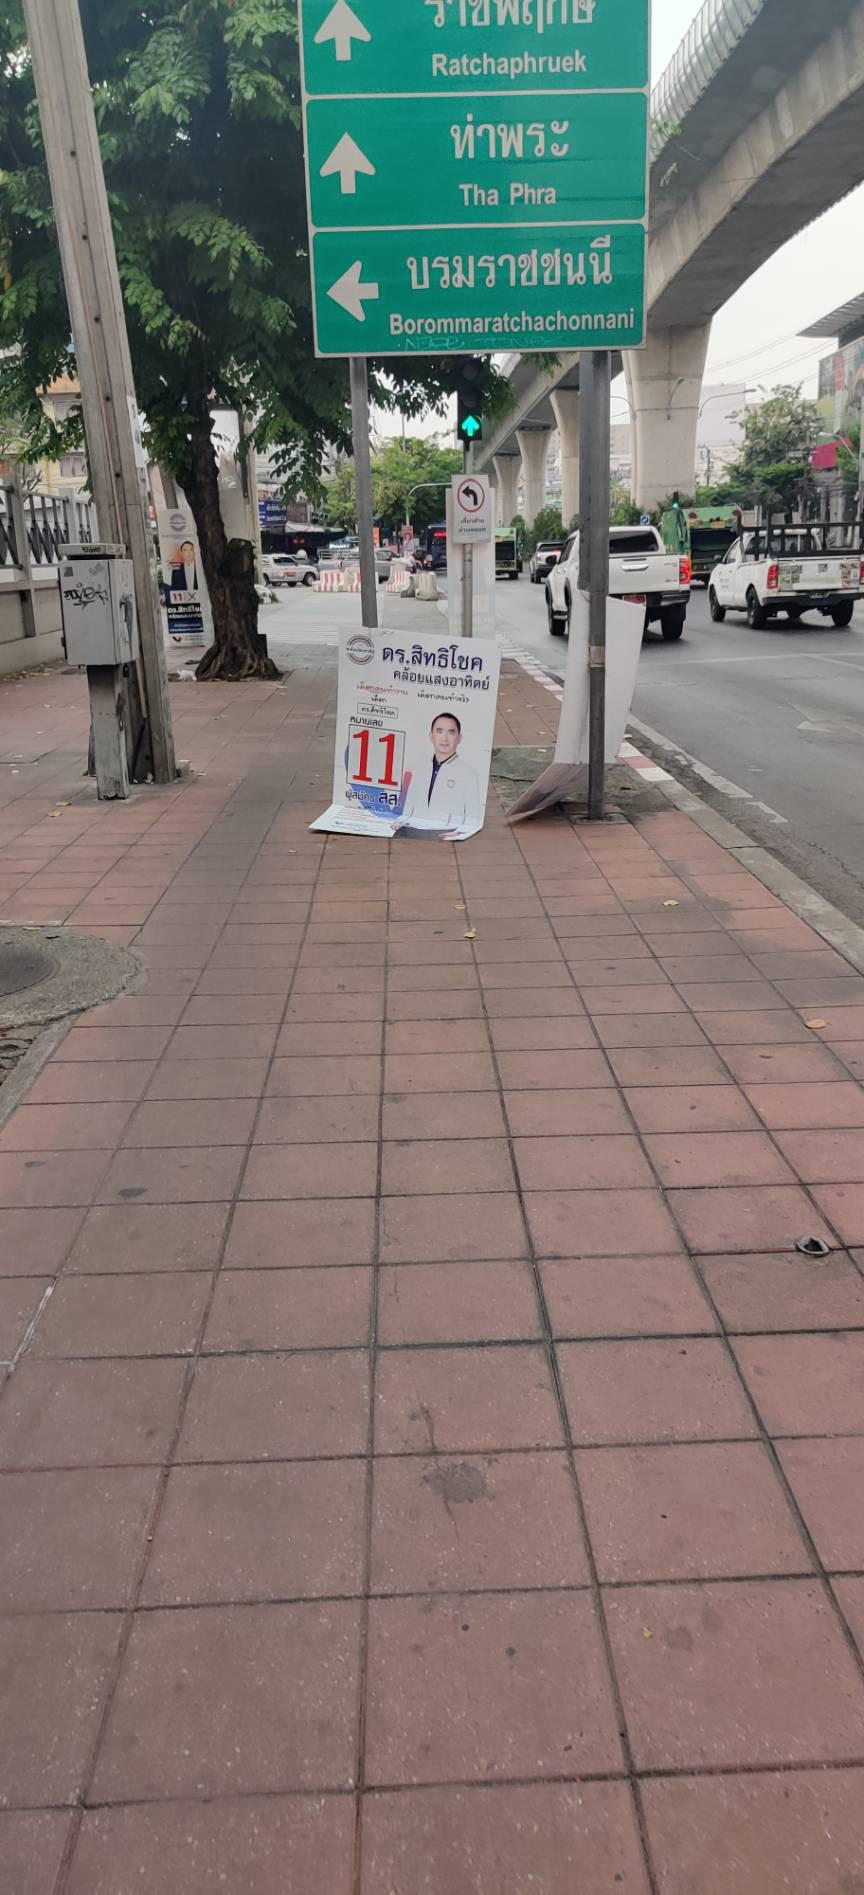Banner: (332, 628, 486, 835)
